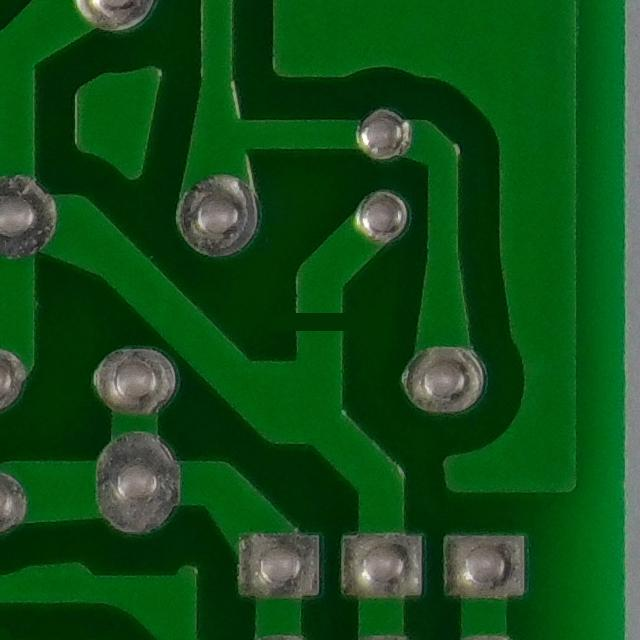open_circuit: (274, 286, 367, 355)
